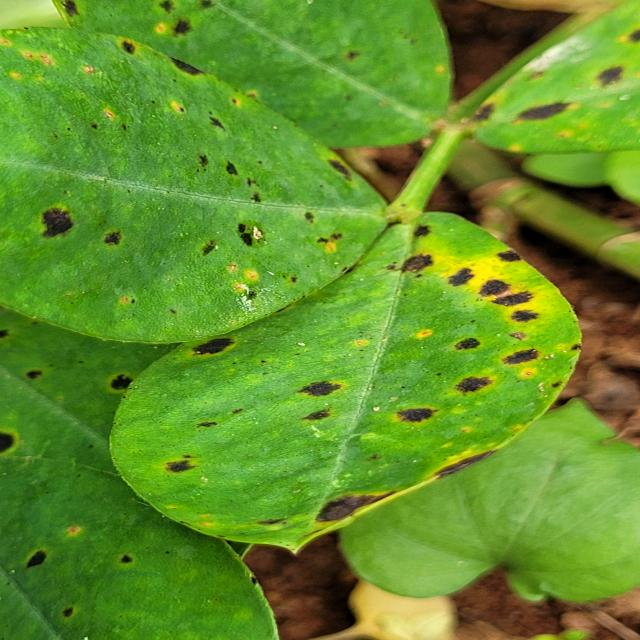Ground nut_tikka leaf spot: (102, 205, 592, 550), (4, 27, 406, 344)
